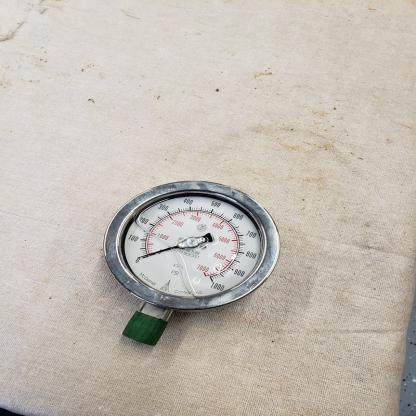needle: (137, 245, 179, 259)
